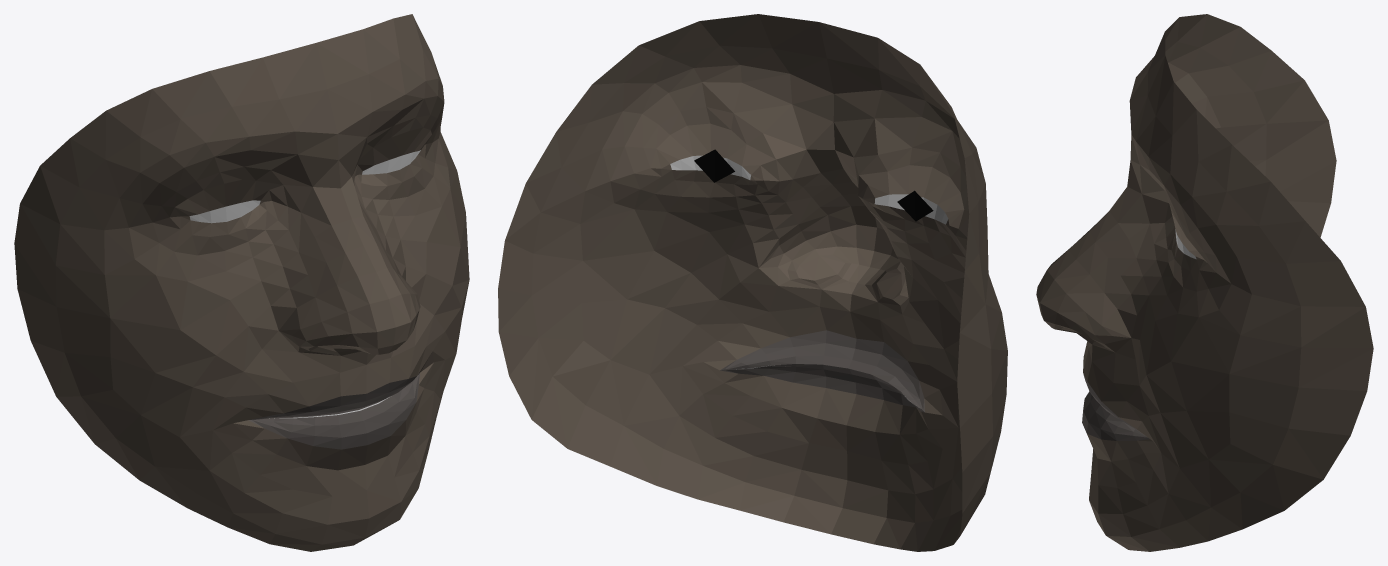
Rendered from tearsofjoy3.obj.
3 views of the same model, side by side, from view 1: azimuth 30°, elevation 25°; view 2: azimuth 150°, elevation 25°; view 3: azimuth 270°, elevation 25° (orthographic). The views are drawn at different scales.
Visible parts, largest first — view 1: face_model_with_iris; view 2: face_model_with_iris; view 3: face_model_with_iris.
Part boxes in pixels (<box>): face_model_with_iris: <box>14,14,469,551</box>; face_model_with_iris: <box>498,14,1007,551</box>; face_model_with_iris: <box>1036,14,1373,551</box>.
Size of the model in its own units: 0.8809 by 1.01 by 0.6487.
